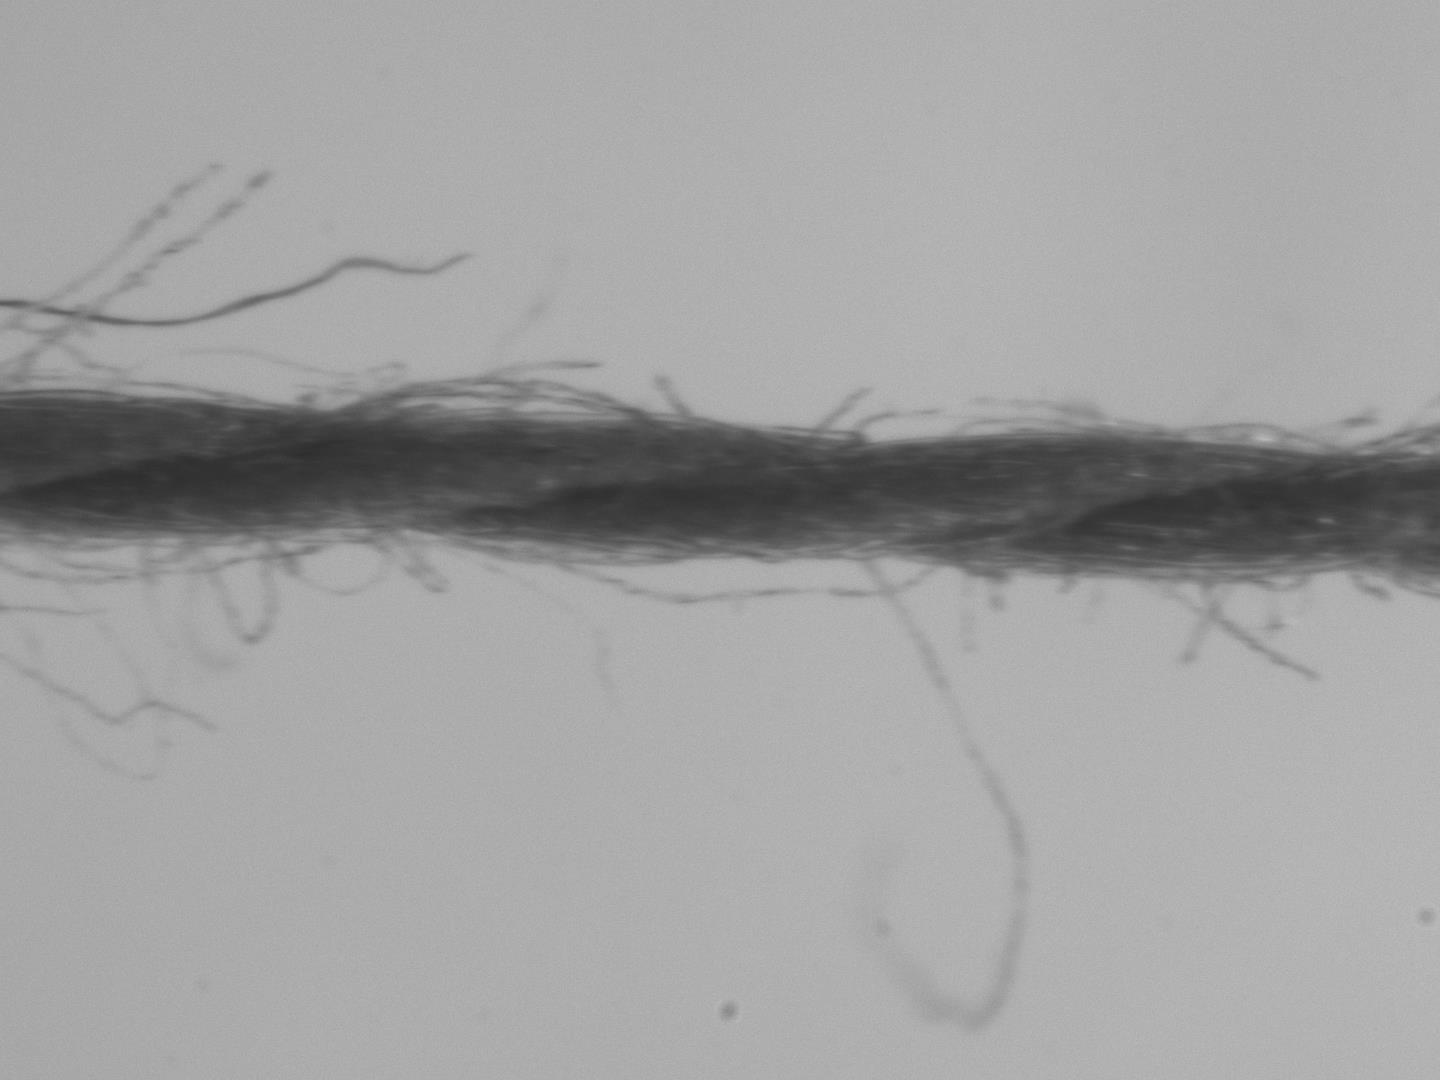loop_fiber: (1, 530, 178, 787), (500, 541, 957, 613), (78, 337, 416, 417), (1, 517, 336, 589), (314, 366, 650, 423), (847, 390, 1180, 446), (172, 541, 294, 661), (276, 534, 396, 601), (398, 534, 455, 593), (1217, 567, 1320, 594)
protruding_fiber: (846, 546, 1048, 1033), (16, 162, 279, 382), (0, 245, 491, 337), (0, 157, 234, 334), (433, 546, 636, 728), (0, 647, 238, 744), (1135, 575, 1339, 680), (1172, 571, 1247, 676), (791, 374, 896, 446), (650, 365, 704, 428), (1311, 405, 1383, 444), (1336, 568, 1405, 607), (2, 602, 115, 623)
